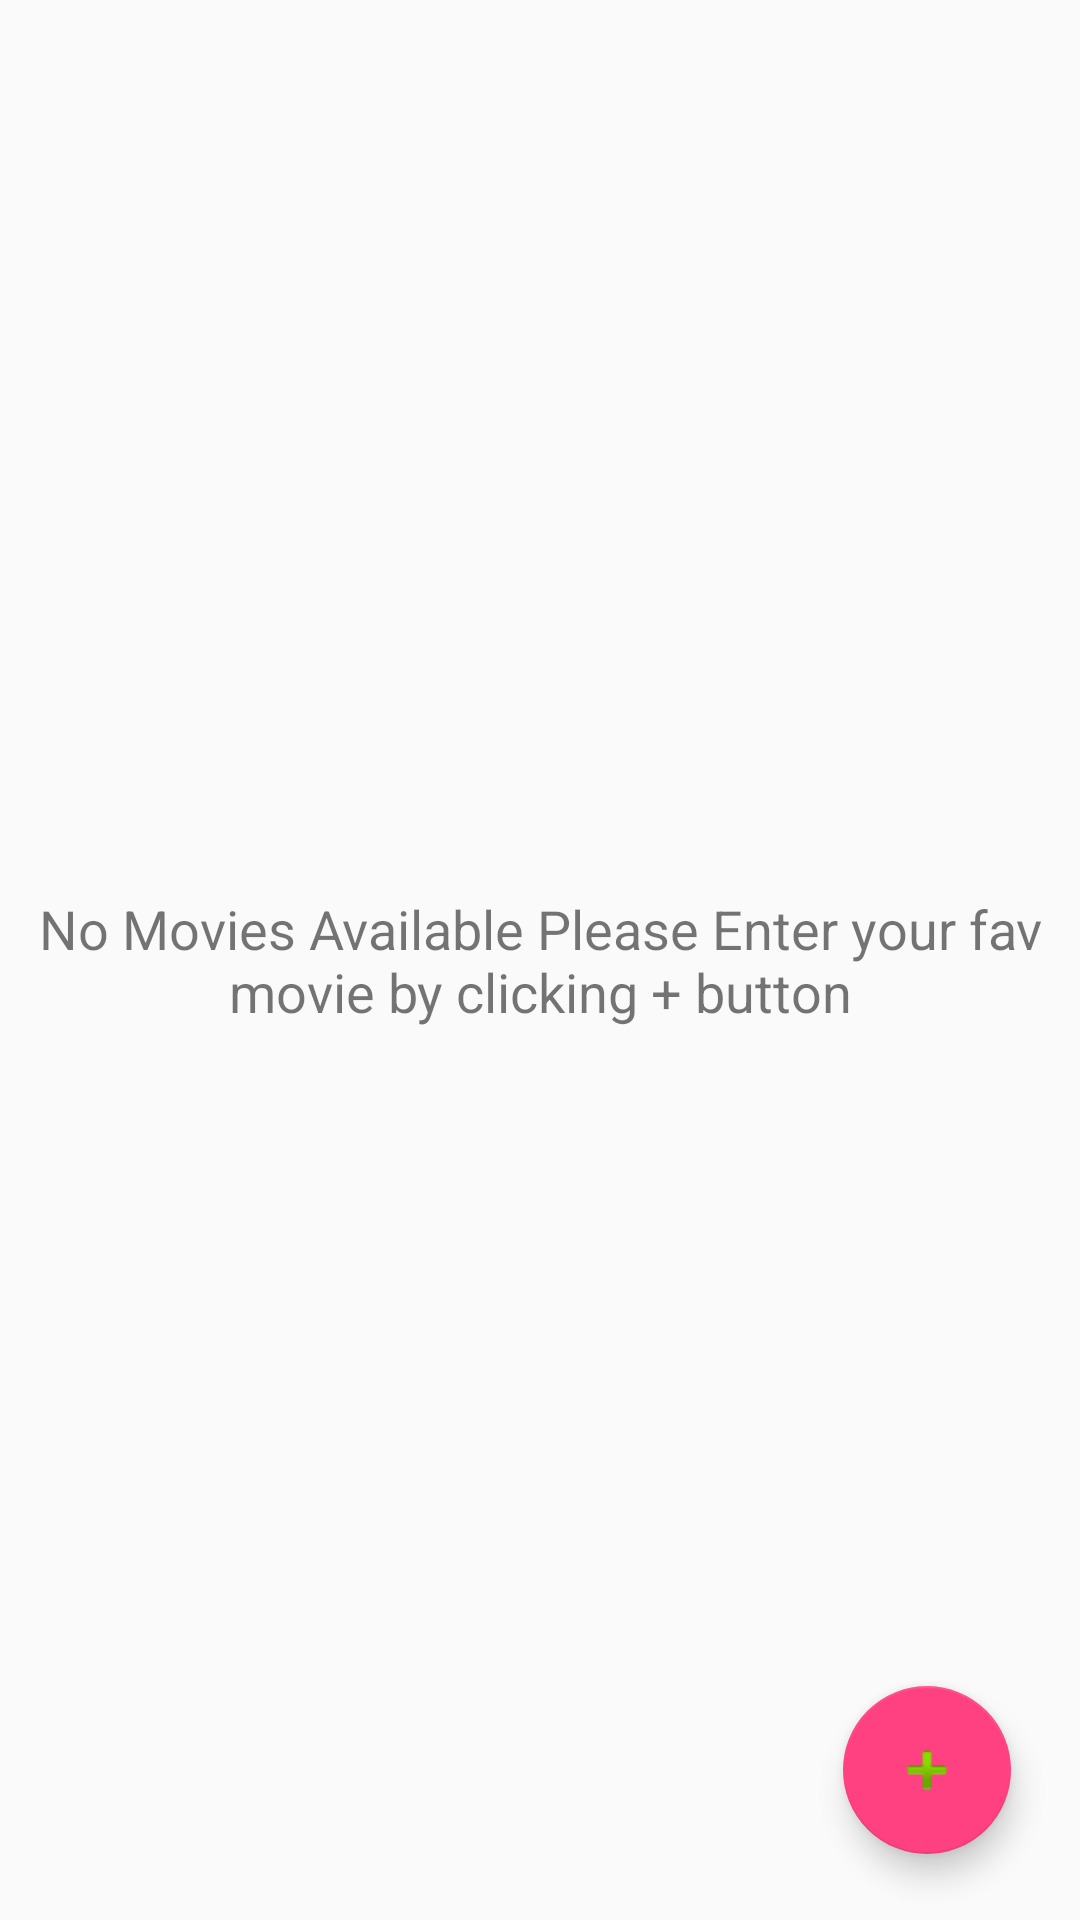

Icons on this 1080px x 1920px Android screen, each with its box as (x1,y1,x2,y2):
add: (843,1686,1011,1854)
